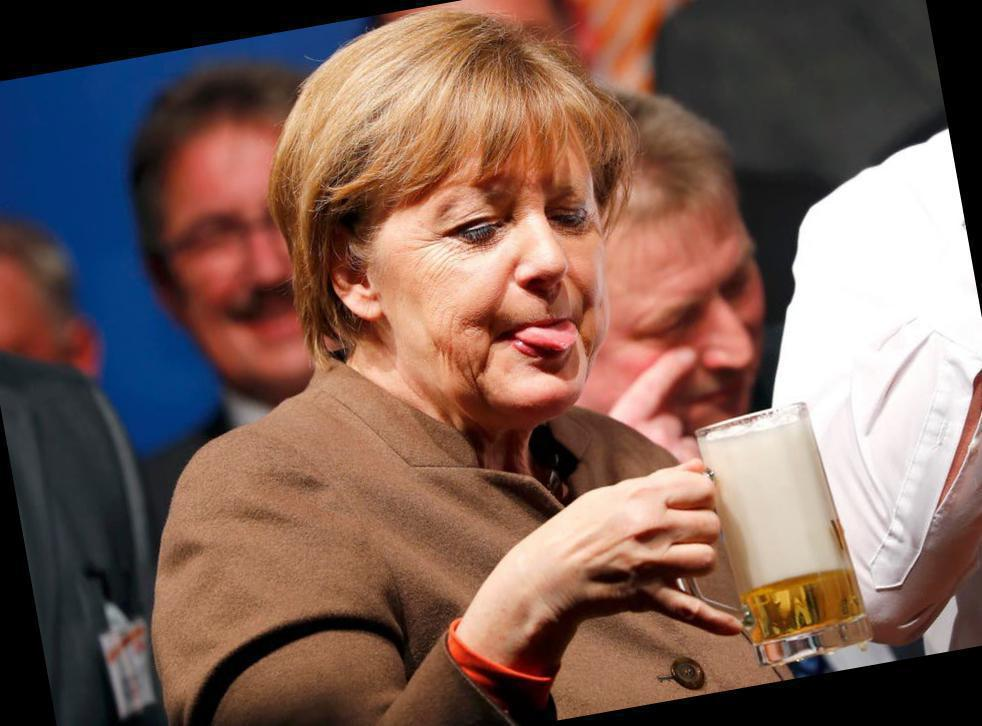Drunk: (384, 125, 604, 412)
